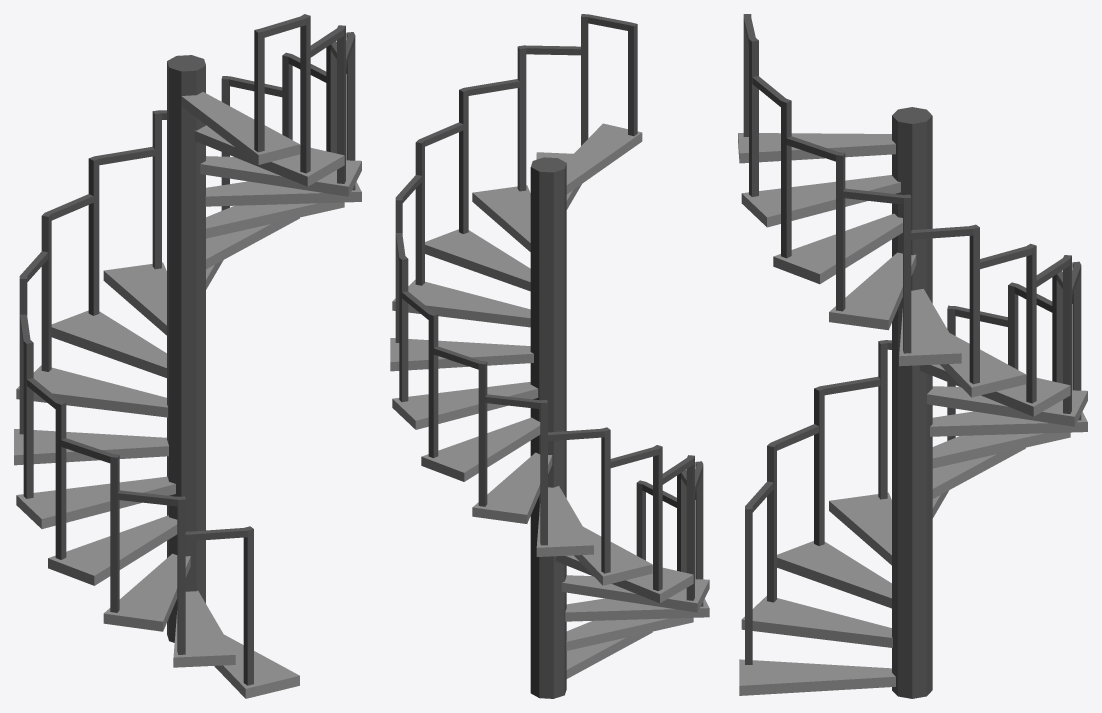
File: Stairs_4.fbx
3 views of the same model, side by side, from view 1: azimuth 30°, elevation 25°; view 2: azimuth 150°, elevation 25°; view 3: azimuth 270°, elevation 25° (orthographic). The views are drawn at different scales.
Visible parts, largest first — view 1: Stairs_4; view 2: Stairs_4; view 3: Stairs_4.
Part boxes in pixels (x1,y1,x2,y2): Stairs_4: (14, 14, 361, 698); Stairs_4: (390, 14, 709, 698); Stairs_4: (738, 14, 1087, 698).
Size of the model in its own units: 259 by 259 by 548.
